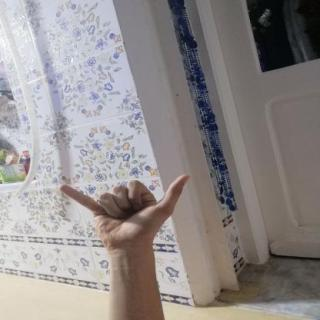YA: (51, 168, 199, 252)
